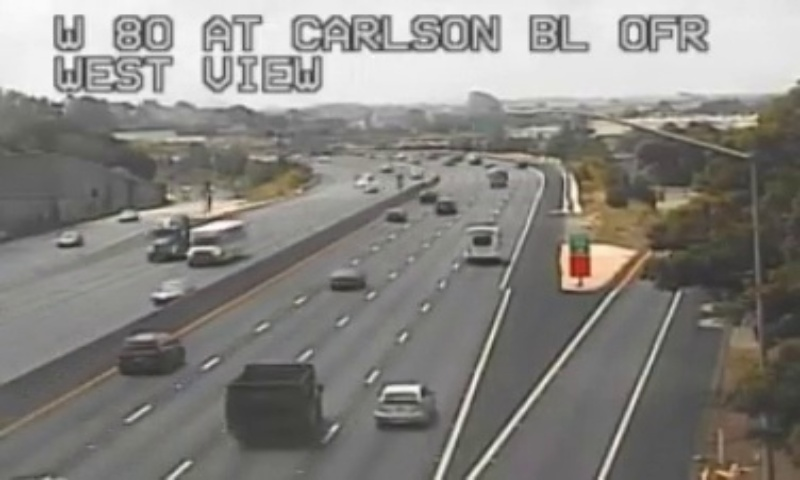bus: (461, 223, 500, 261)
car: (372, 382, 434, 425), (119, 332, 182, 373)
small-truck: (227, 364, 321, 438)
